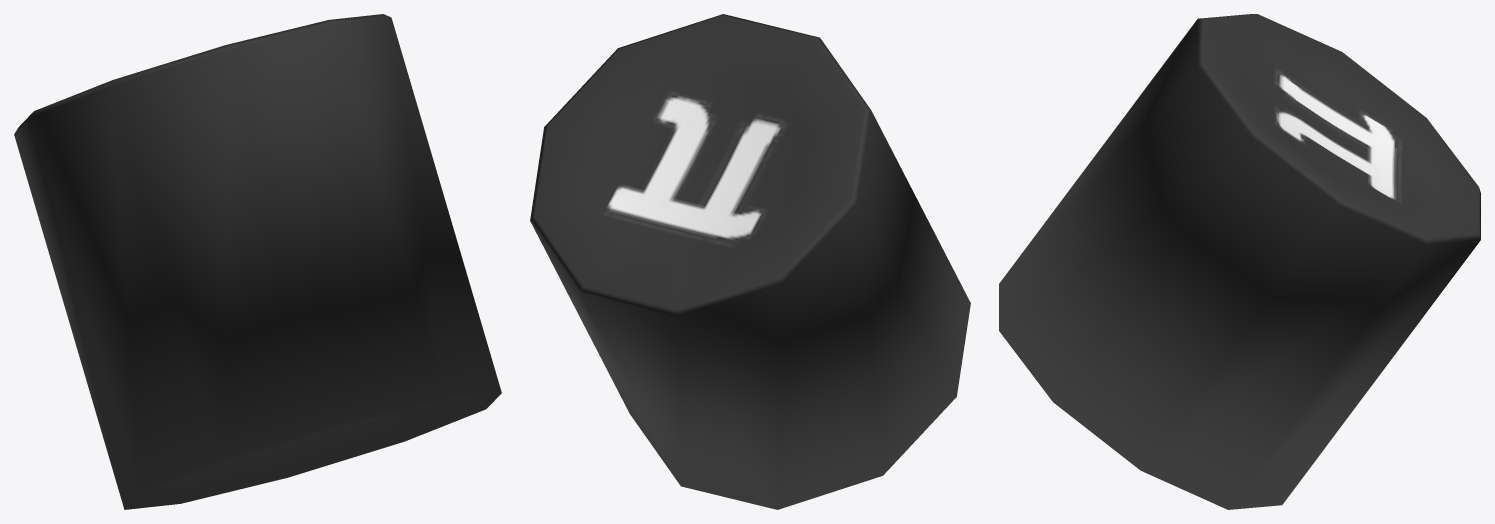
The model's file is crystal_controller_right_button6.obj.
3 views of the same model, side by side, from view 1: azimuth 30°, elevation 25°; view 2: azimuth 150°, elevation 25°; view 3: azimuth 270°, elevation 25° (orthographic). The views are drawn at different scales.
Parts seen in each view (by area): view 1: crystal_controller_right_button6; view 2: crystal_controller_right_button6; view 3: crystal_controller_right_button6.
Part boxes in pixels (box(x1,y1,x2,y2)): crystal_controller_right_button6: box(14, 14, 501, 509); crystal_controller_right_button6: box(530, 14, 970, 509); crystal_controller_right_button6: box(999, 14, 1480, 509).
Bounding box in the file's own units: 0.00983 × 0.0133 × 0.0132.
Materials: 1 (1 with a texture image).
